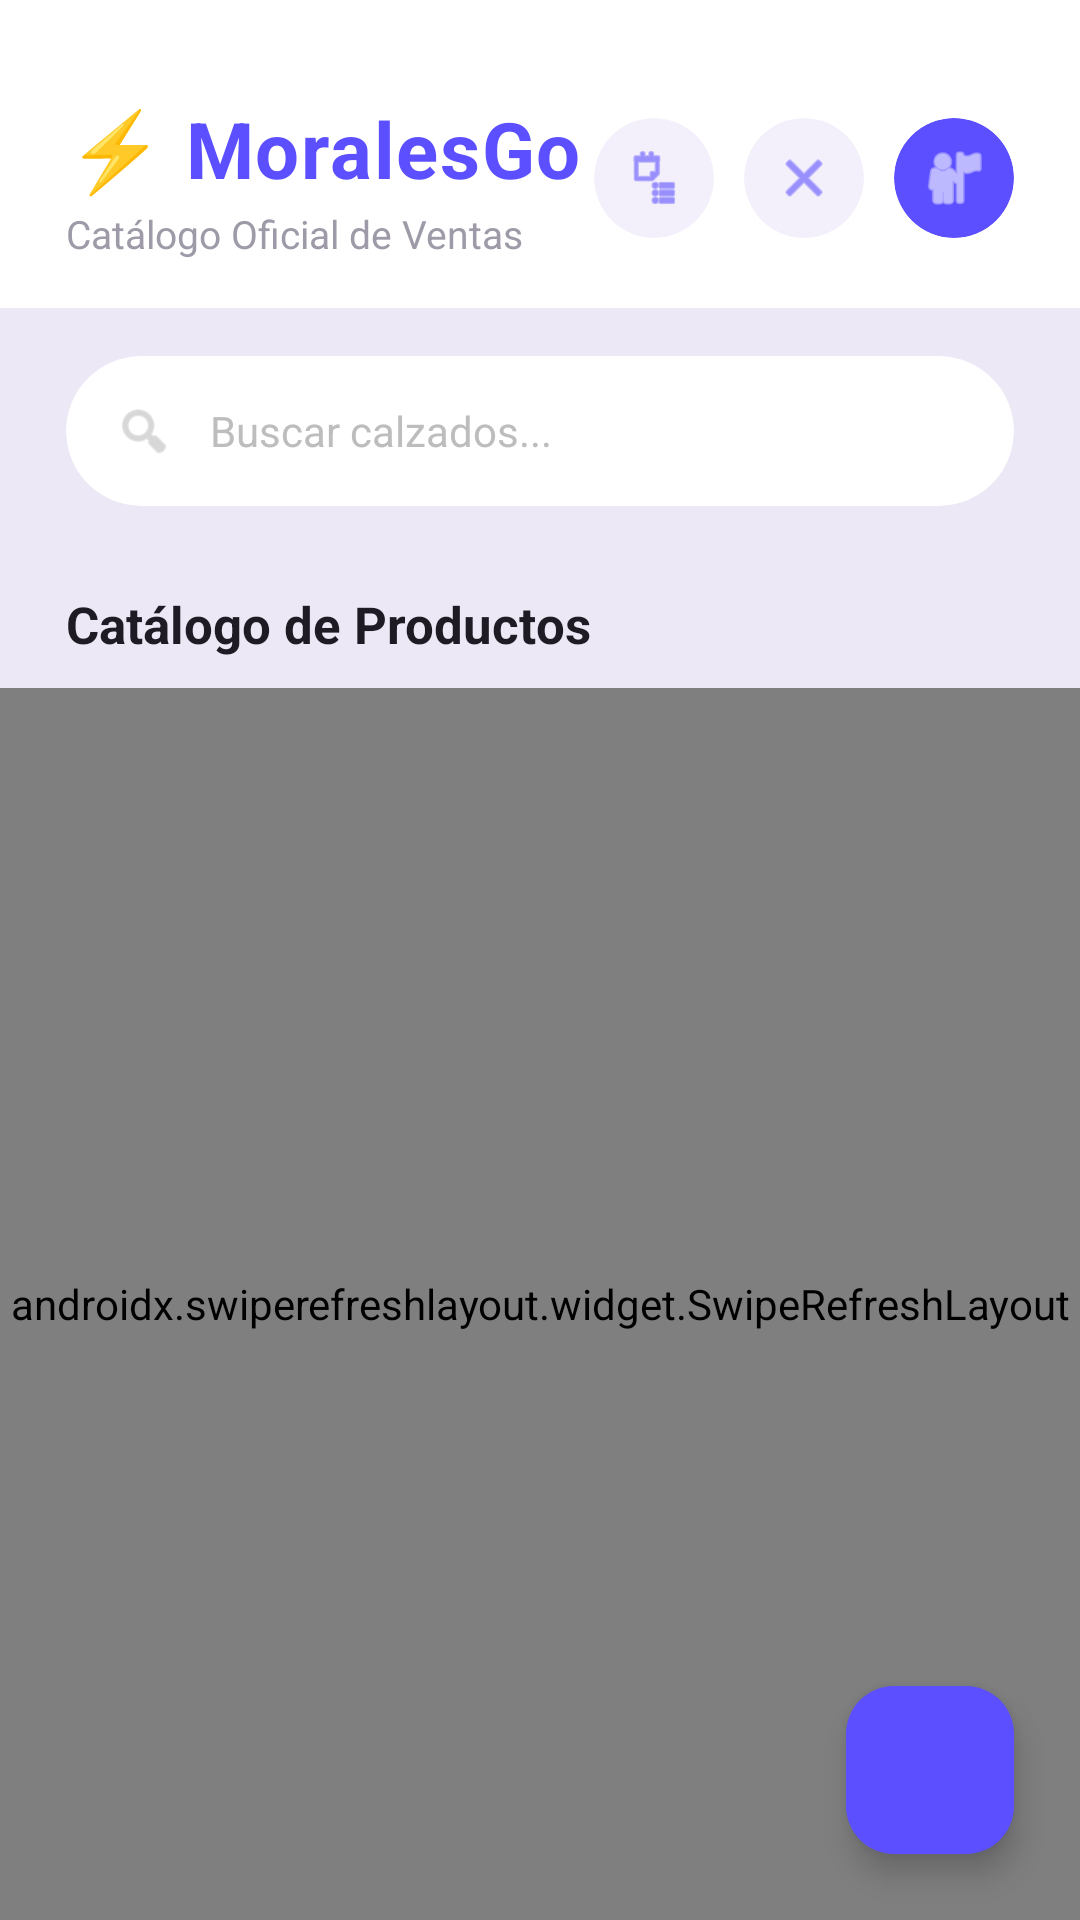

Icon click points for this 1080px x 1920px phone screenshot, format point (x, y):
agenda: point (654, 178)
close clear cancel: point (804, 178)
myplaces: point (954, 178)
search: point (144, 431)
